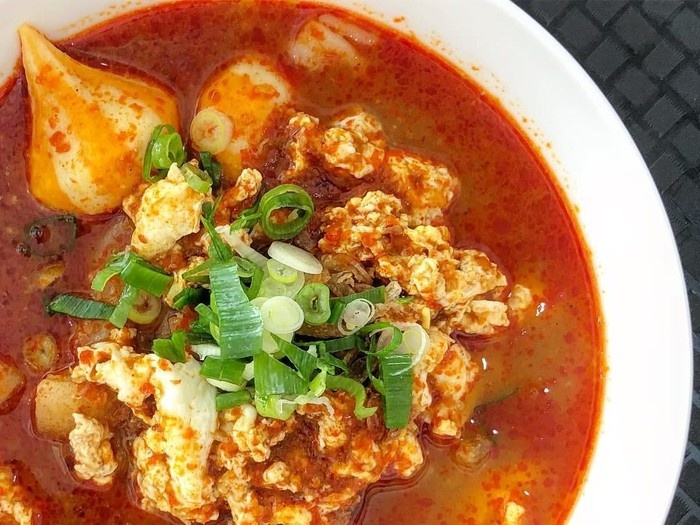seblak: (1, 4, 540, 525)
